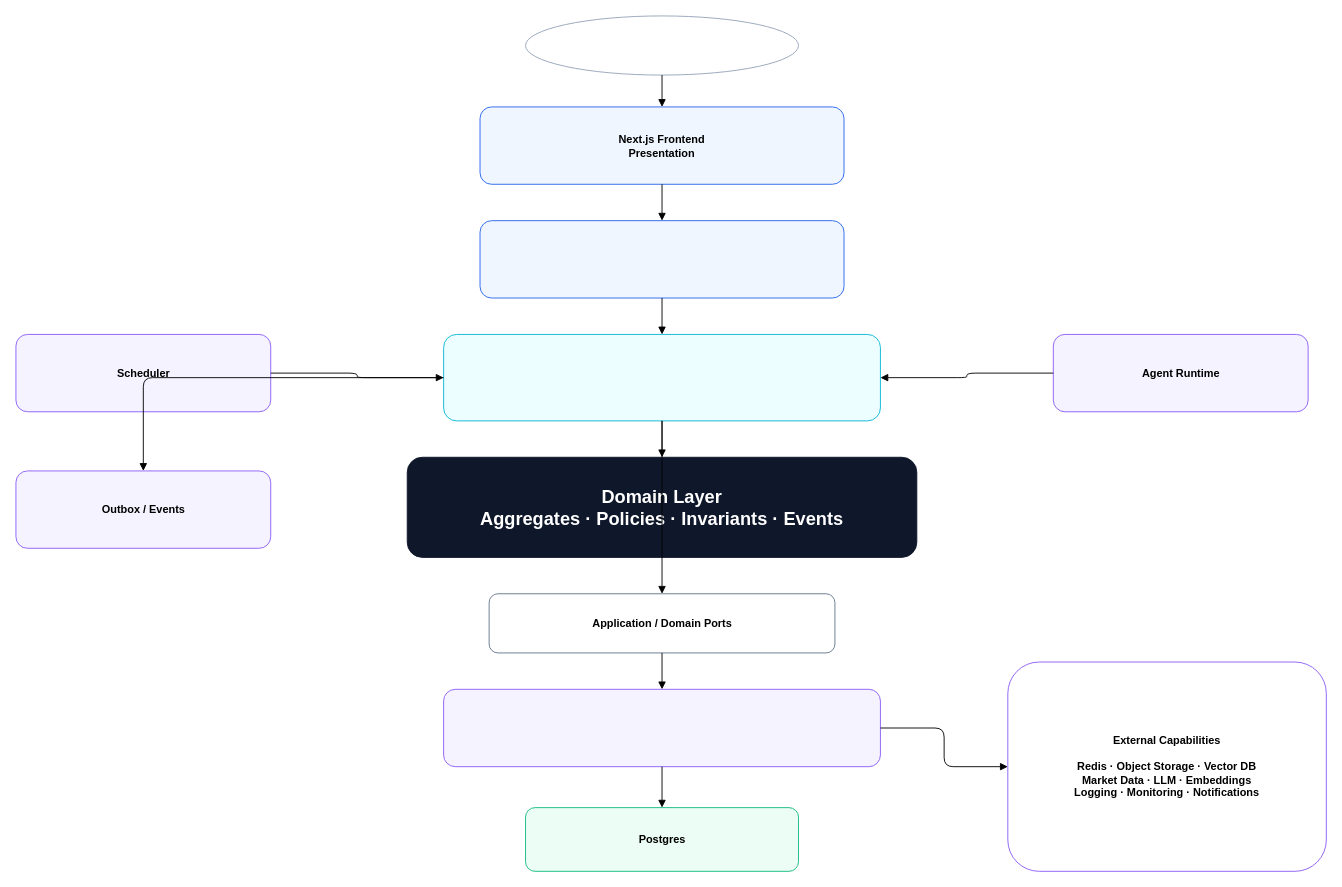
Image size: 1342x887. Some labels were removed from this diagram. The shapes that lost their labels are listed below. From the top down, each one's centre as x and y in pixels, then its label:
At point 662,45: "User".
At point 661,259: "FastAPI Gateway Transport Adapter".
At point 661,377: "Application Layer Use Cases · Workflow Coordination".
At point 661,727: "Infrastructure Layer Adapters".
